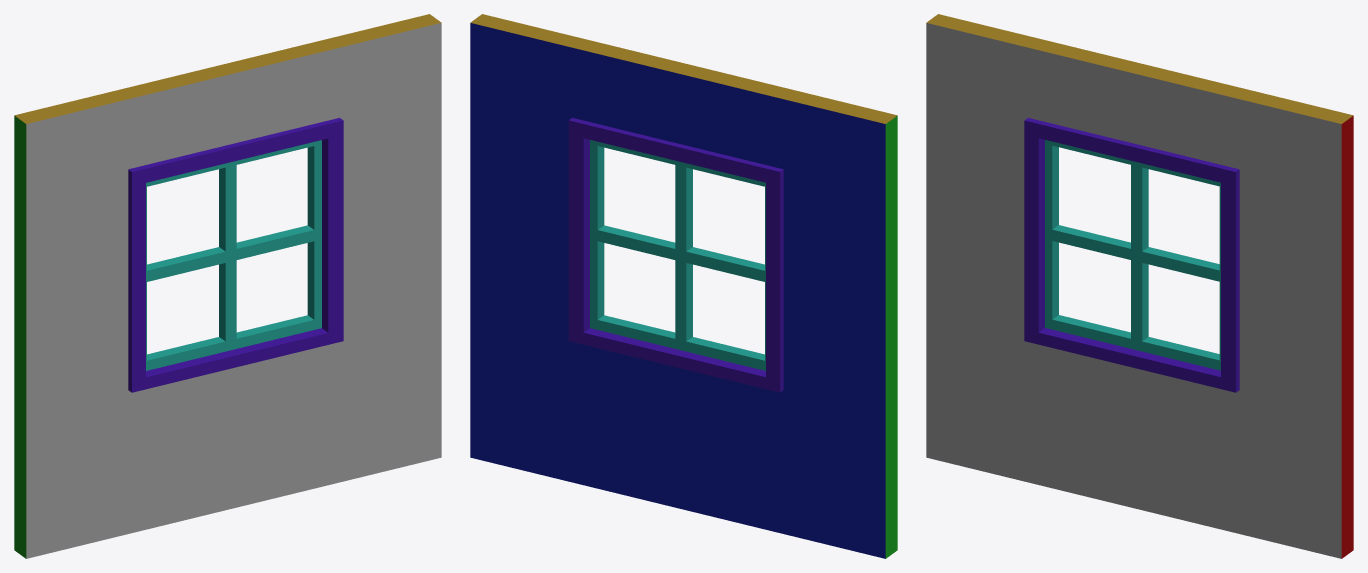
Rendered from Wall_Window_02c.fbx.
3 views of the same model, side by side, from view 1: azimuth 30°, elevation 25°; view 2: azimuth 150°, elevation 25°; view 3: azimuth 330°, elevation 25° (orthographic).
Parts seen in each view (by area): view 1: Wall_Window_02c; view 2: Wall_Window_02c; view 3: Wall_Window_02c.
Boxes of the visible parts, left/top/right/bottom form: Wall_Window_02c: left=14, top=14, right=441, bottom=558; Wall_Window_02c: left=470, top=14, right=897, bottom=558; Wall_Window_02c: left=926, top=14, right=1353, bottom=558.
Bounding box in the file's own units: 3 × 0.242 × 3.
